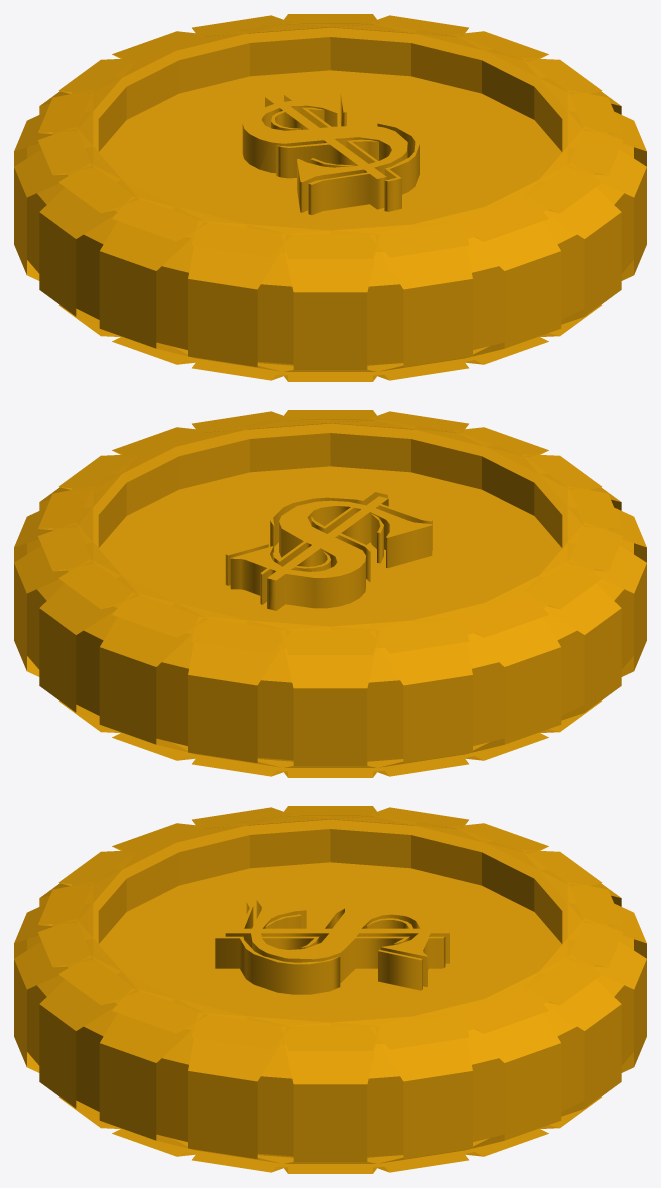
File: coin_new.glb
3 renders of one model, top to bottom at view 1: azimuth 30°, elevation 25°; view 2: azimuth 150°, elevation 25°; view 3: azimuth 270°, elevation 25°, orthographic.
Visible parts, largest first — view 1: coin_new; view 2: coin_new; view 3: coin_new.
Part boxes in pixels (bbox=[...]): coin_new: bbox=[14, 14, 646, 381]; coin_new: bbox=[14, 410, 646, 777]; coin_new: bbox=[14, 806, 646, 1173].
Size of the model in its own units: 1.97 by 0.4774 by 1.98.
